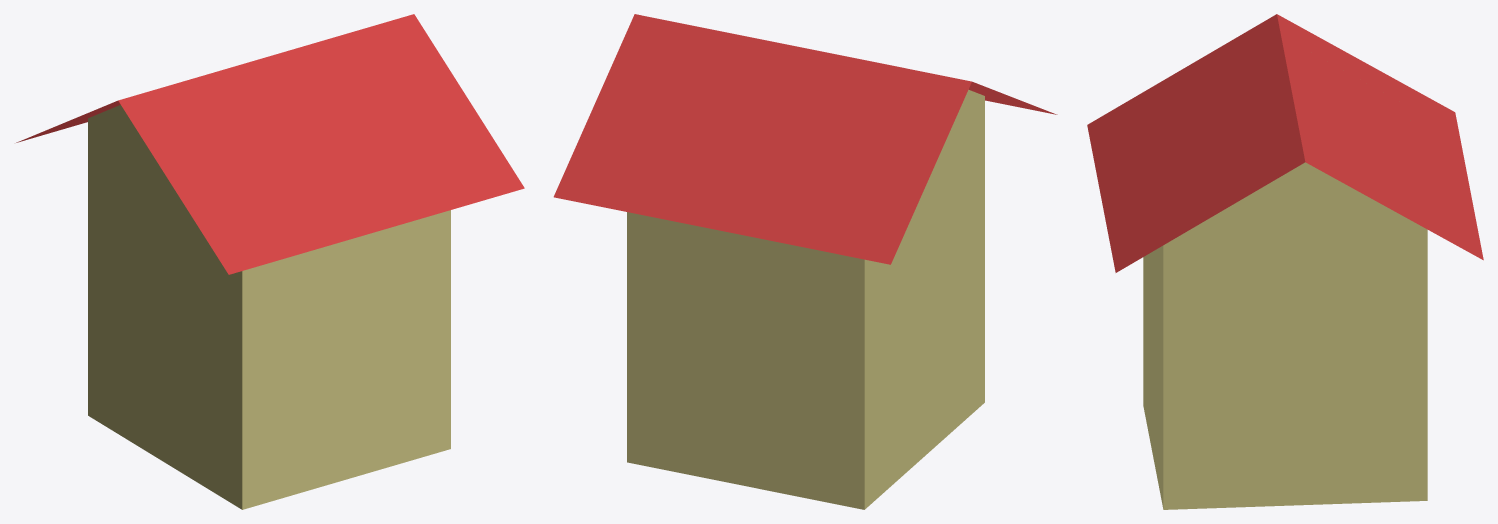
The picture shows the model from 3 angles, left to right: view 1: azimuth 30°, elevation 25°; view 2: azimuth 150°, elevation 25°; view 3: azimuth 270°, elevation 25°; orthographic projection. The views are drawn at different scales.
Bounding box in the file's own units: 7.31 × 7.61 × 7.73.
